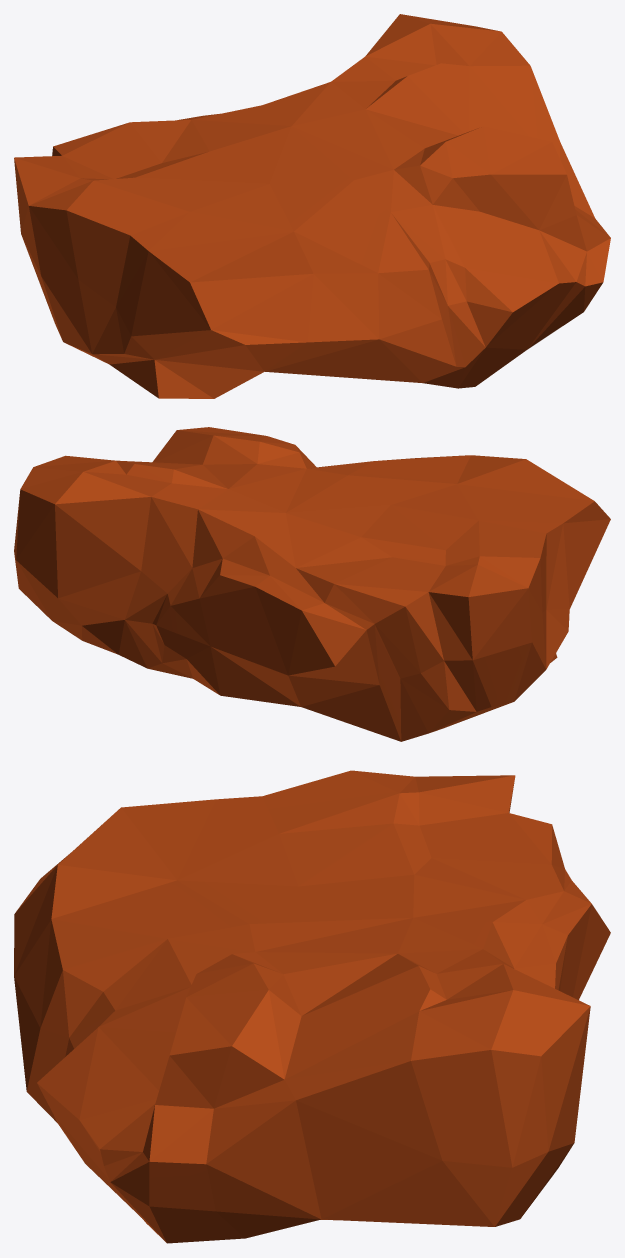
File: Stone_desert_mid9fbx.fbx
3 views of the same model, one above another, from view 1: azimuth 30°, elevation 25°; view 2: azimuth 150°, elevation 25°; view 3: azimuth 270°, elevation 25° (orthographic). The views are drawn at different scales.
Visible parts, largest first — view 1: Stone_desert_mid_009; view 2: Stone_desert_mid_009; view 3: Stone_desert_mid_009.
Boxes of the visible parts, <box> form: Stone_desert_mid_009: <box>14,14,610,398</box>; Stone_desert_mid_009: <box>14,427,610,741</box>; Stone_desert_mid_009: <box>14,770,610,1243</box>.
Bounding box in the file's own units: 361 × 155 × 285.
1 material, 1 textured.
